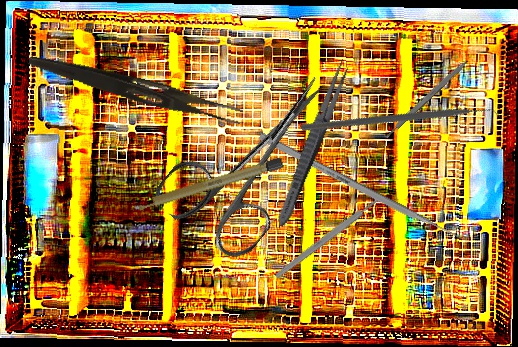Chopper: (299, 26, 505, 222)
Dressing Forceps: (25, 52, 246, 126), (272, 56, 354, 230)
Iris Scissors: (148, 44, 362, 269)
Pusher: (257, 132, 472, 247)
Scalpel Handle: (128, 155, 286, 215), (273, 195, 382, 281), (382, 57, 470, 140)
